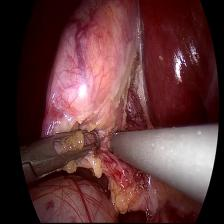Grasper: (33, 125, 102, 175)
Irrigator: (110, 126, 132, 165)
